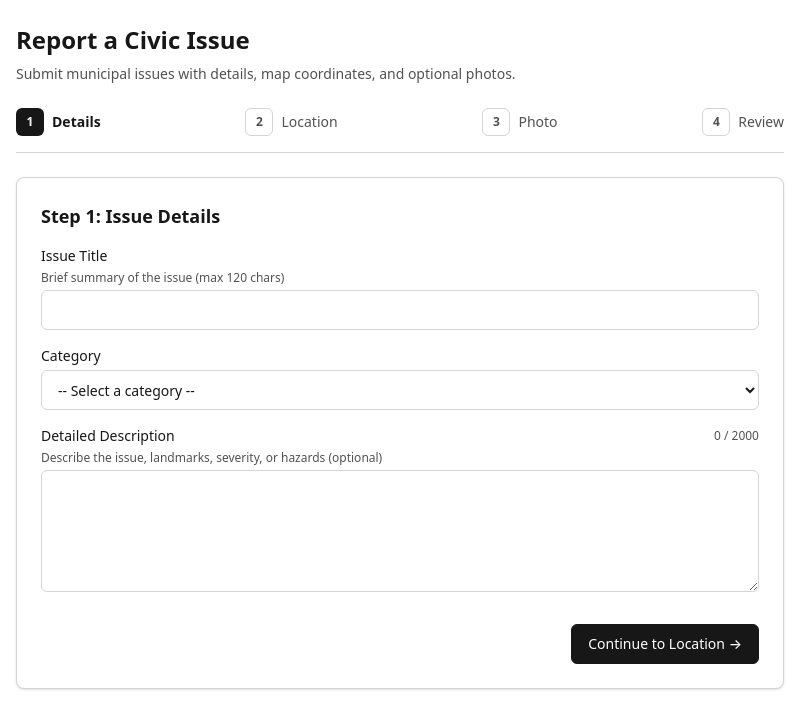
Scenario: Submit Report Journey (D3) › handles photo upload, polling progress, rejection, and skip photo
Type "Streetlight broken" into the field labelled "Issue Title" at (400, 310), box left=41, top=290, right=759, bottom=330
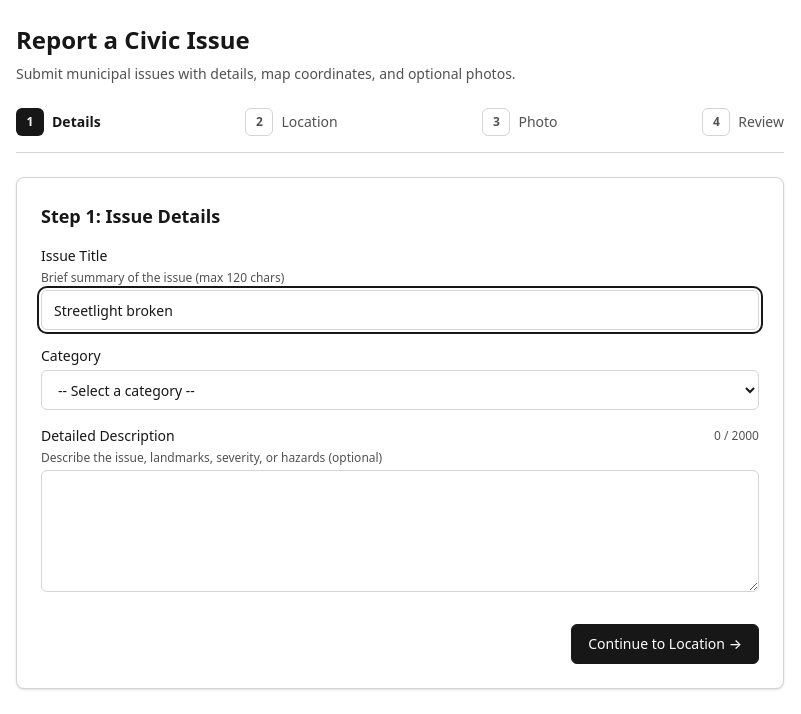
Select "Streetlight" in the dropdown labelled "Category" at (400, 390), box left=41, top=370, right=759, bottom=410
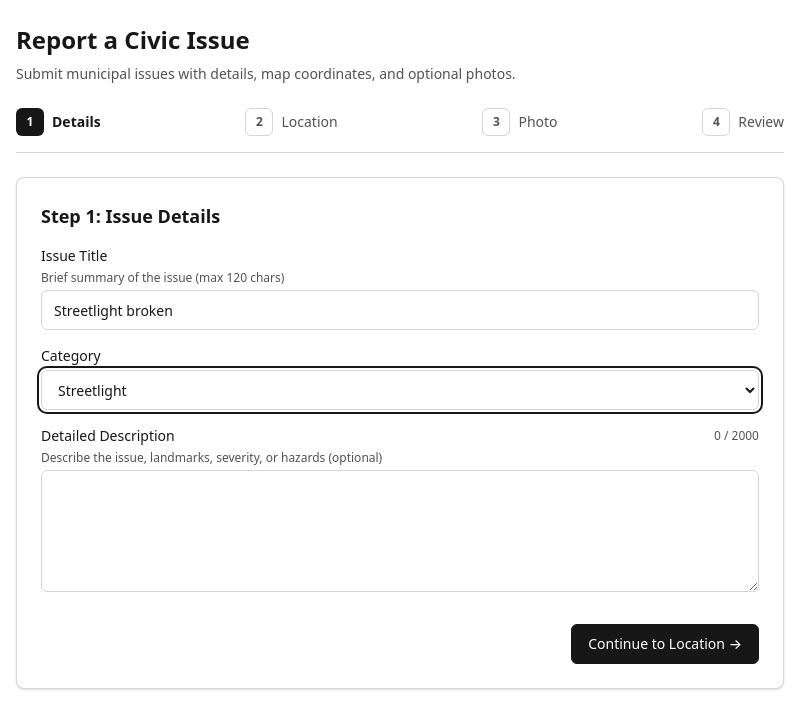
Click the button "Continue to Location →" at (665, 644), box left=571, top=624, right=759, bottom=664
(page scrolled)
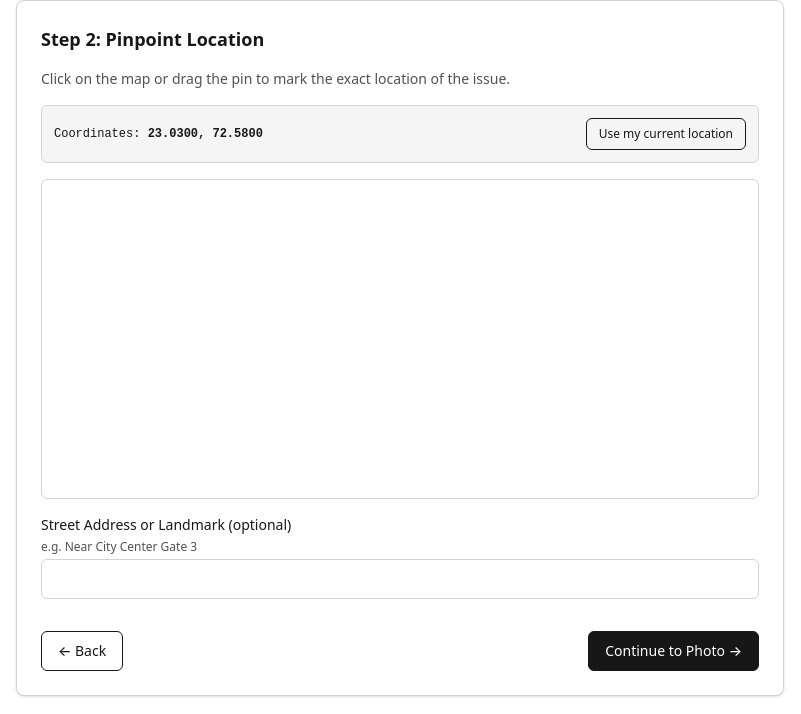
Check: the heading "Step 2: Pinpoint Location" is shown, box left=41, top=27, right=264, bottom=51
Click the button "Continue to Photo →" at (674, 651), box left=588, top=631, right=759, bottom=671
(page scrolled)
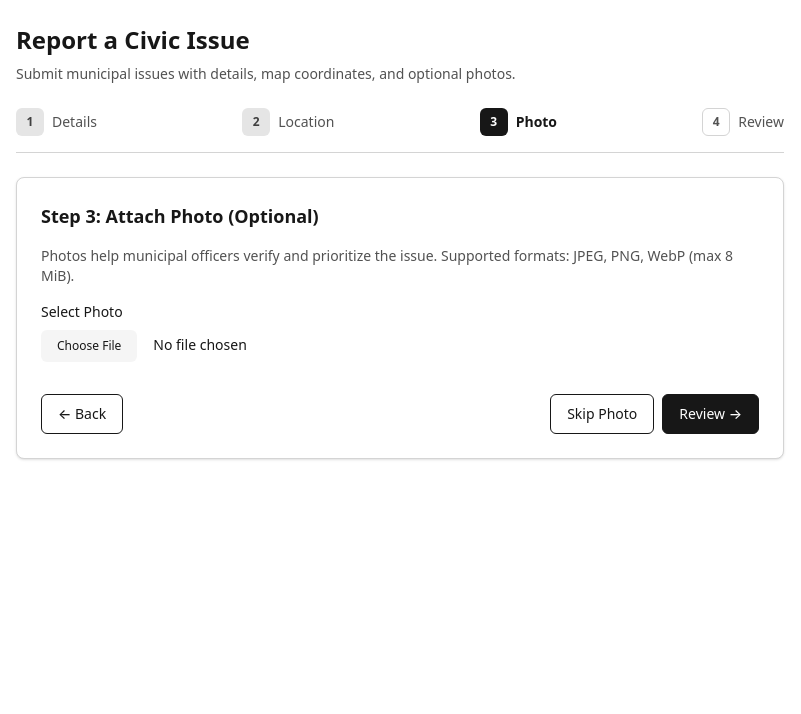
Check: the heading "Step 3: Attach Photo (Optional)" is shown, box left=41, top=204, right=319, bottom=228
Note: Skip Photo button proceeds directly to Step 4 without photo
Click the button "Skip Photo" at (602, 414), box left=550, top=394, right=654, bottom=434
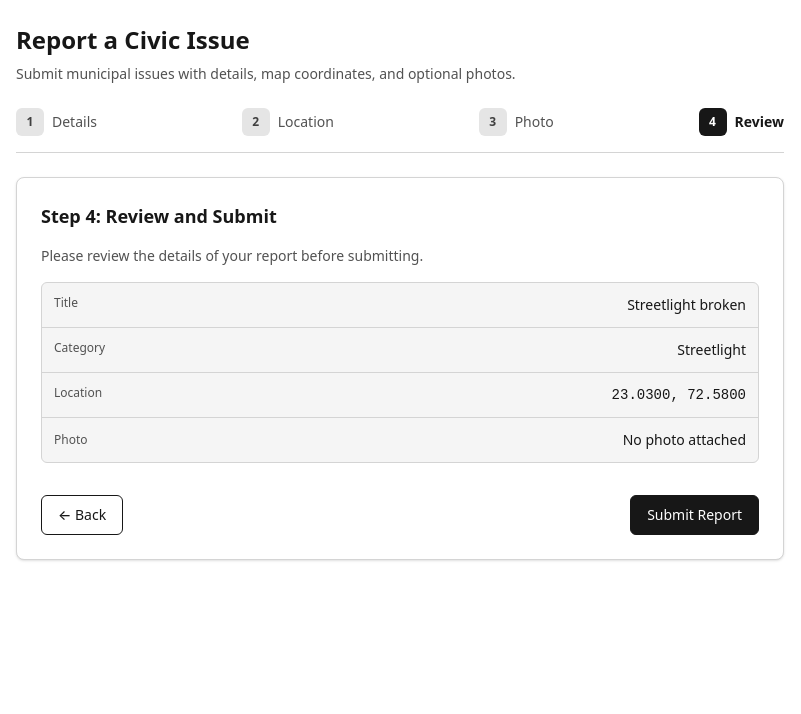
Check: the heading "Step 4: Review and Submit" is shown, box left=41, top=204, right=277, bottom=228
Check: the text "No photo attached" is shown, box left=623, top=430, right=746, bottom=450
